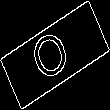O_SE: (30, 22, 80, 88)
